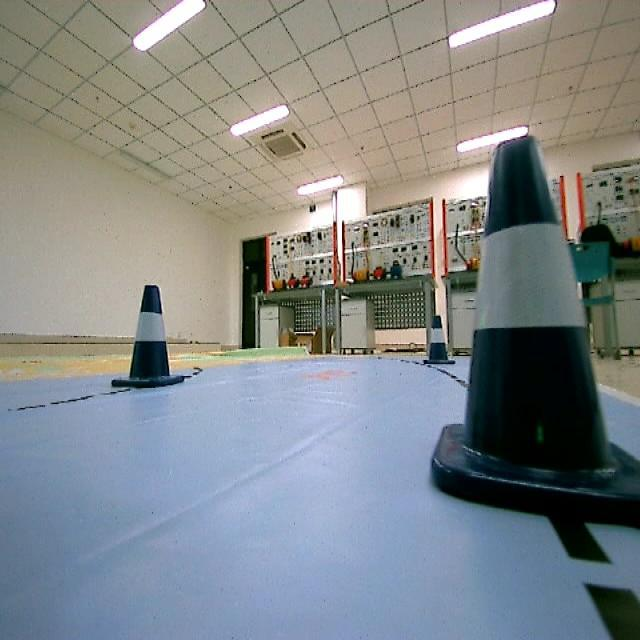obstacle: (431, 138, 640, 539), (104, 280, 192, 393)
